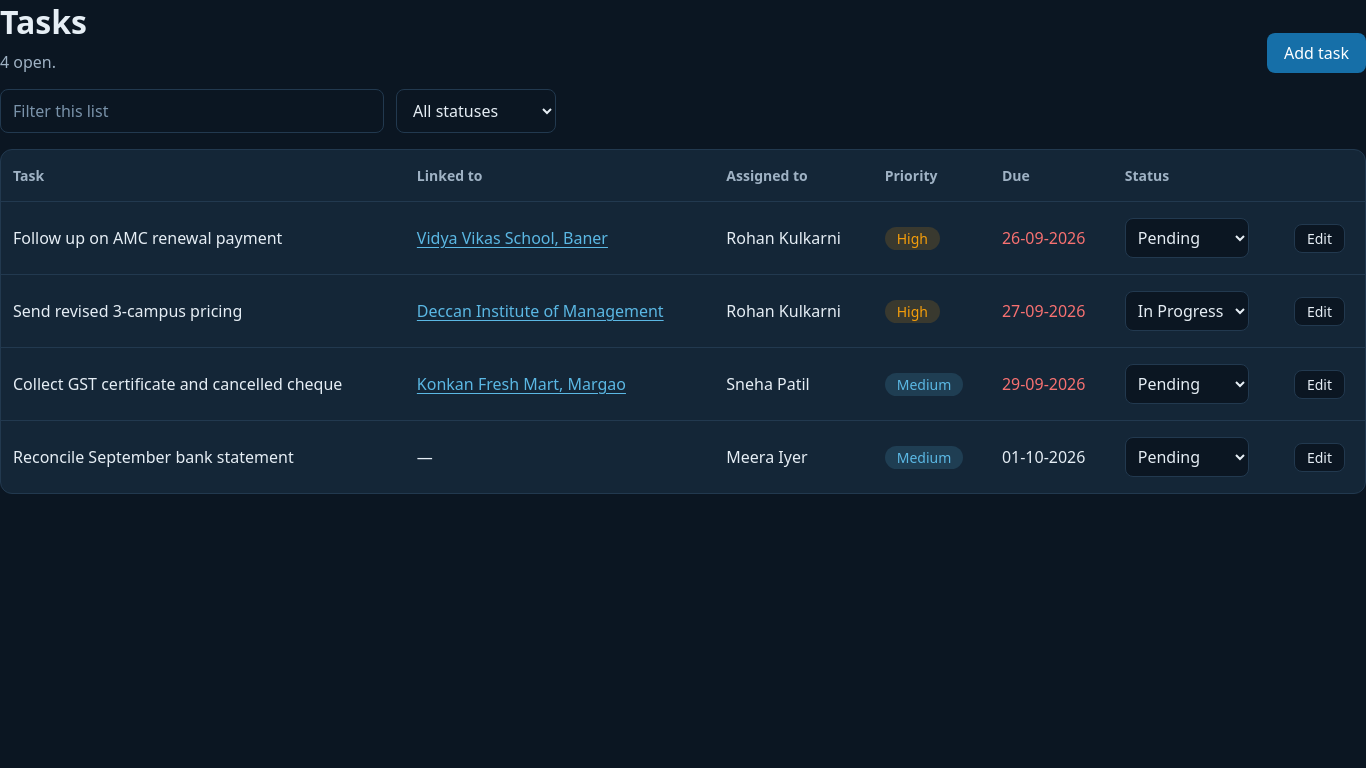
Test: TasksPanel › edits a task
Step 1. Click the button named "Edit Reconcile September bank statement" → (1319, 457), box [1294, 442, 1345, 472]
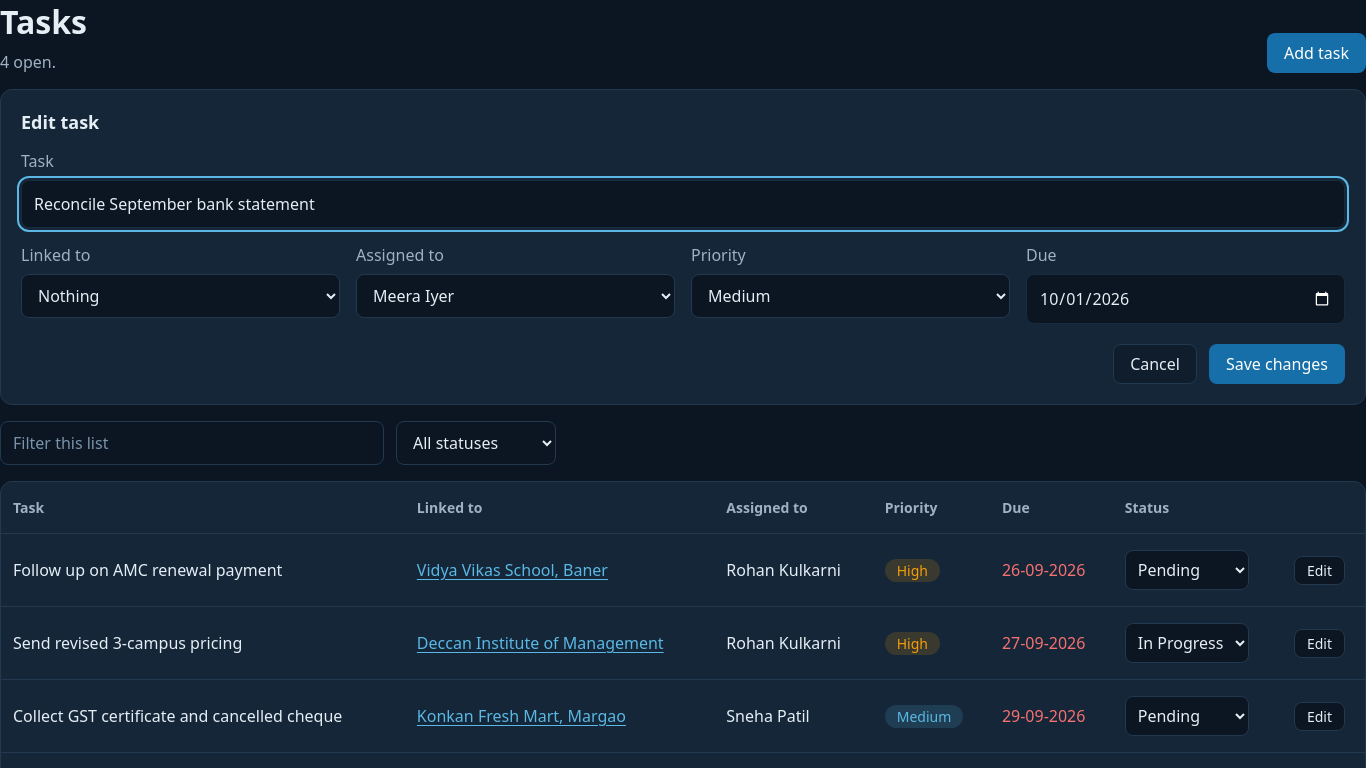
Step 2. Select "High" in the dropdown labelled "Priority" → (850, 296), box [691, 274, 1010, 318]
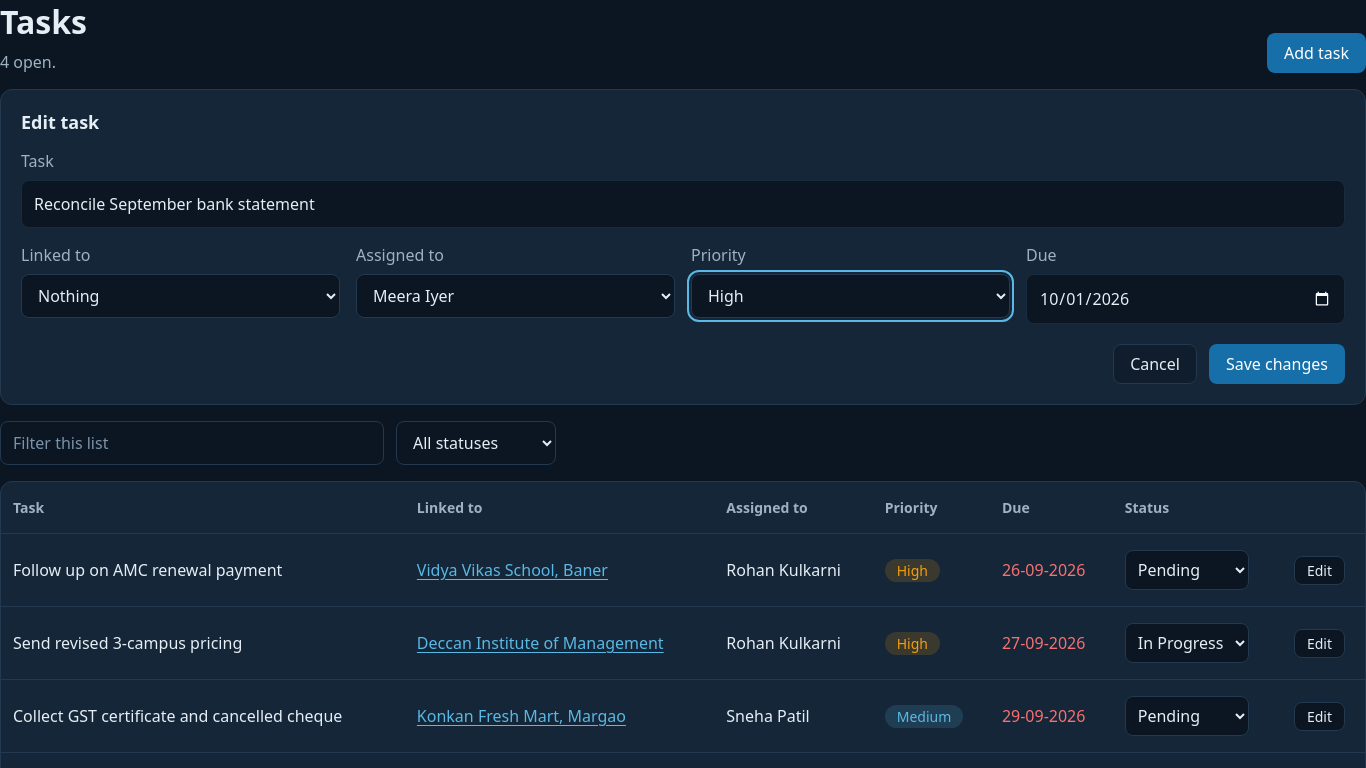
Step 3. Click the button "Save changes" → (1277, 364), box [1209, 344, 1345, 384]
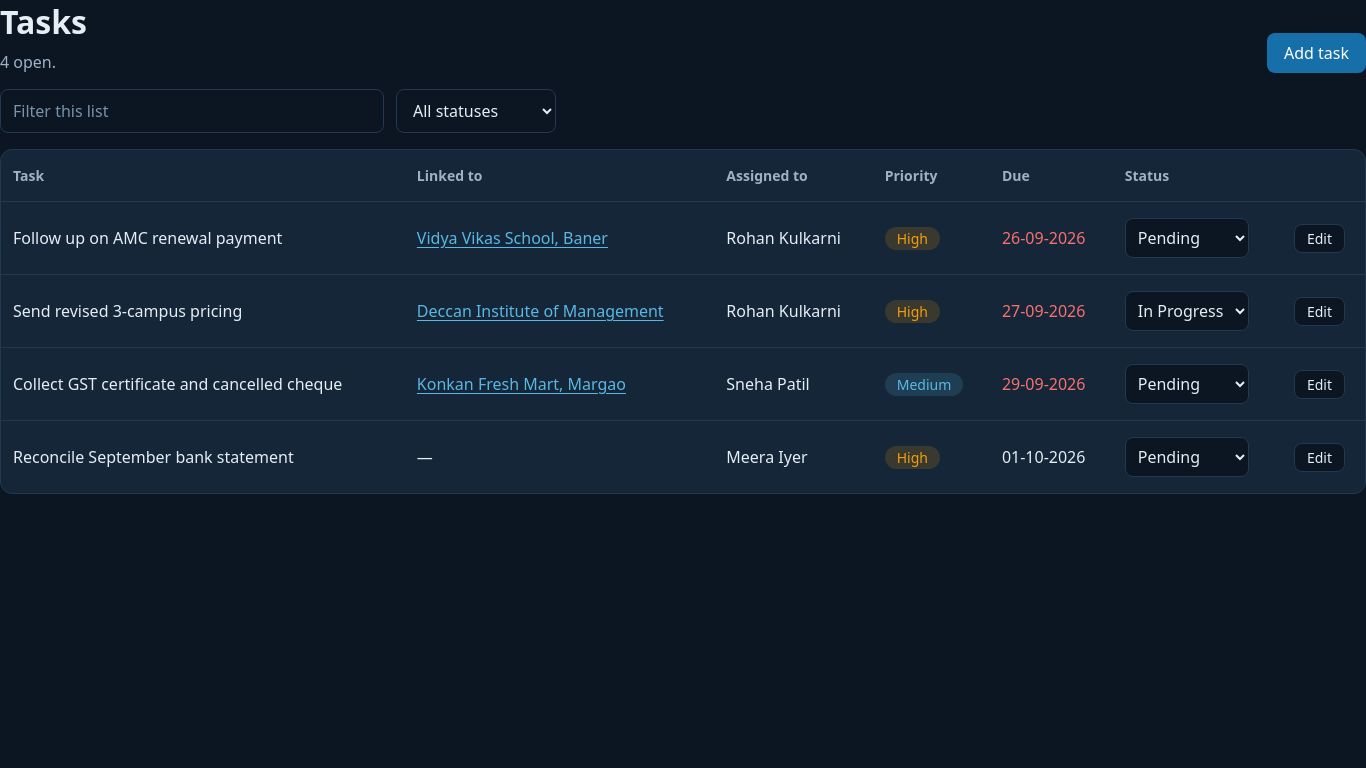
Expected: the row "Reconcile September bank statement" shows "High", [897, 448, 928, 466]
Expected: the form is gone
